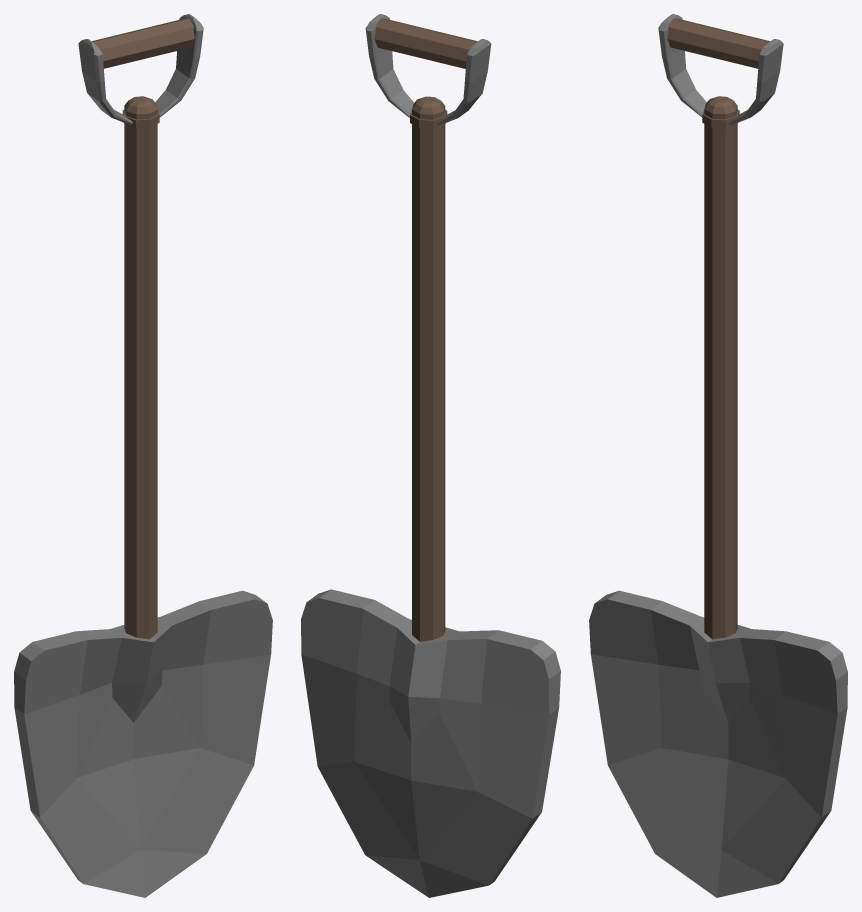
File: Shovel.glb
3 renders of one model, left to right at view 1: azimuth 30°, elevation 25°; view 2: azimuth 150°, elevation 25°; view 3: azimuth 330°, elevation 25°, orthographic.
Visible parts, largest first — view 1: Shovel; view 2: Shovel; view 3: Shovel.
Boxes of the visible parts, bbox=[...] form: Shovel: bbox=[14, 14, 272, 897]; Shovel: bbox=[301, 14, 560, 897]; Shovel: bbox=[589, 14, 847, 897].
Size of the model in its own units: 0.7559 by 2.53 by 0.1753.
Materials: 1 (1 with a texture image).
